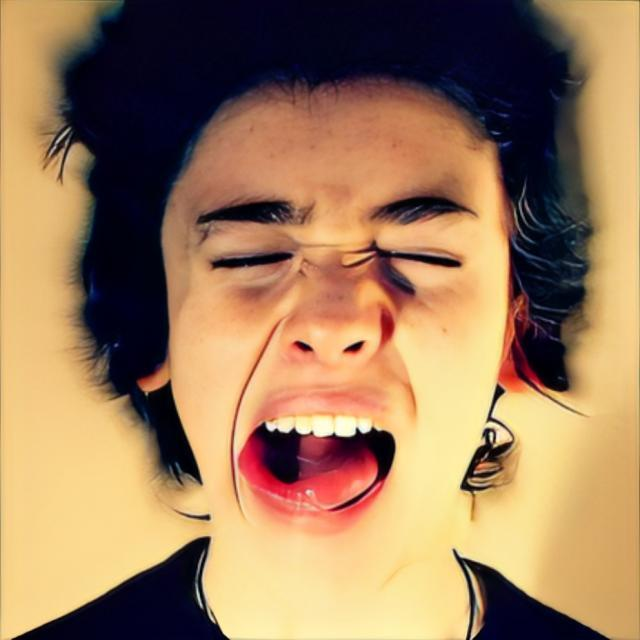disgust: (160, 72, 506, 596)
